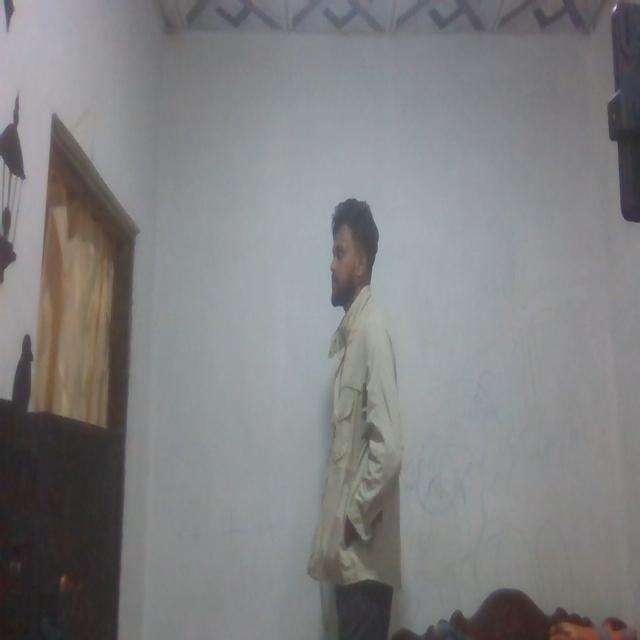Jacket_Wearer: (314, 290, 402, 590)
Person: (286, 185, 403, 640)
